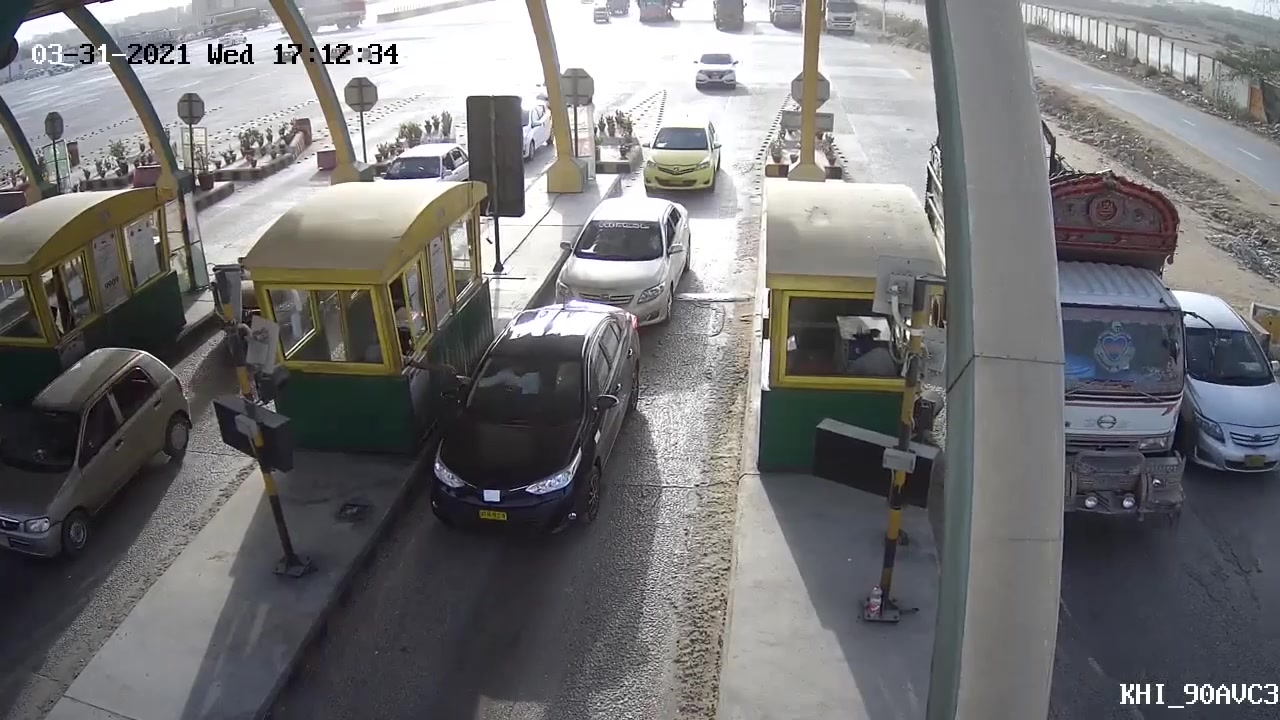F1: (418, 304, 639, 546), (551, 195, 694, 322), (626, 103, 742, 199)
